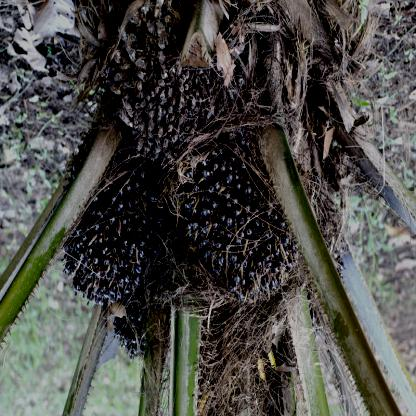palm-oil: (115, 1, 255, 160), (193, 143, 333, 296), (50, 165, 158, 310), (104, 300, 158, 367)
